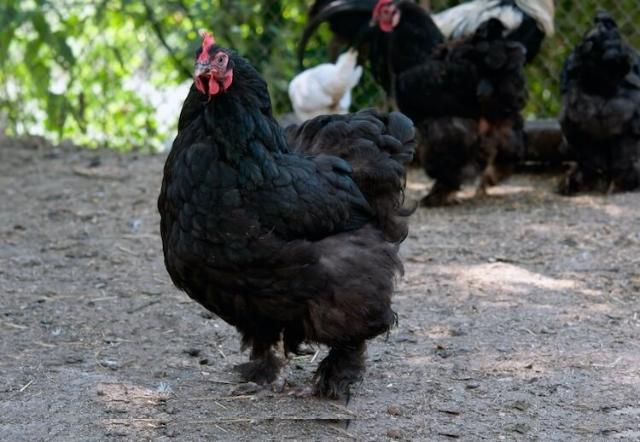Chicken: (156, 29, 416, 398), (321, 1, 532, 214), (287, 46, 364, 122)
